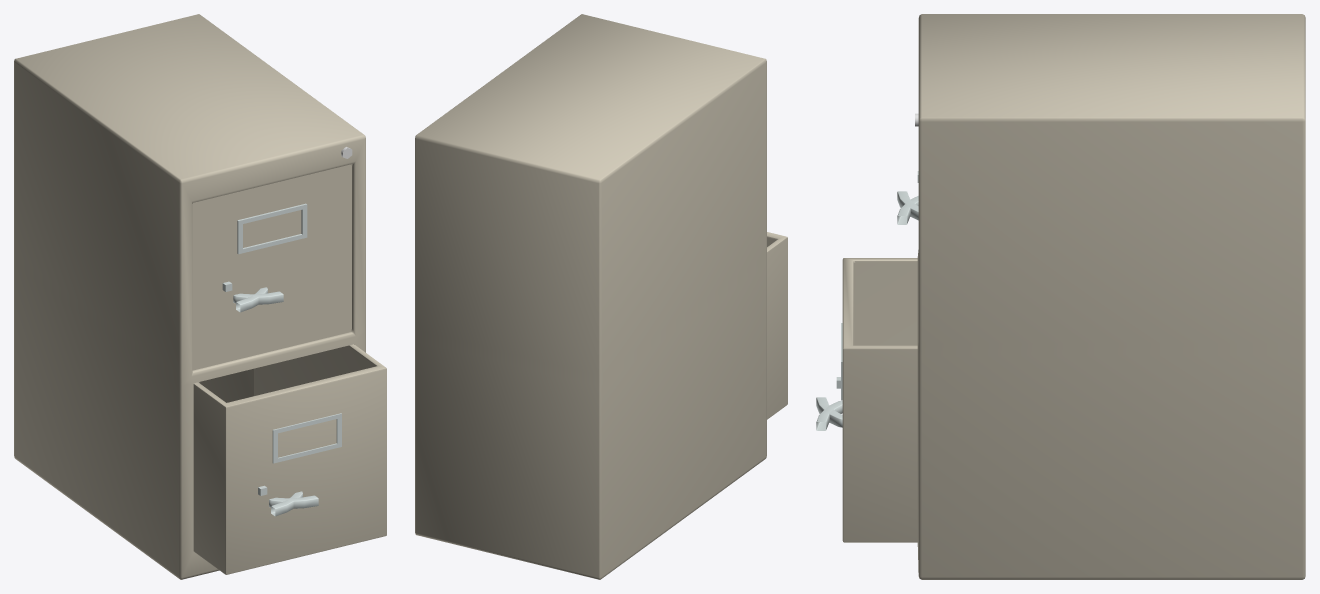
Rendered from SM_cabinet.fbx.
The picture shows the model from 3 angles, left to right: view 1: azimuth 30°, elevation 25°; view 2: azimuth 150°, elevation 25°; view 3: azimuth 270°, elevation 25°; orthographic projection. The views are drawn at different scales.
Visible parts, largest first — view 1: cabinet, cabinet_tiroir, Plane, Cube.005, Cube.004, Cube, Cube.002; view 2: cabinet, cabinet_tiroir; view 3: cabinet, cabinet_tiroir, Cube.002.
Boxes of the visible parts, left/top/right/bottom form: cabinet: left=14, top=14, right=365, bottom=579; cabinet_tiroir: left=193, top=344, right=386, bottom=574; Plane: left=192, top=164, right=351, bottom=370; Cube.005: left=237, top=203, right=307, bottom=254; Cube.004: left=272, top=413, right=341, bottom=463; Cube: left=233, top=287, right=283, bottom=312; Cube.002: left=269, top=491, right=318, bottom=516; cabinet: left=415, top=14, right=766, bottom=579; cabinet_tiroir: left=767, top=232, right=787, bottom=419; cabinet: left=917, top=14, right=1305, bottom=579; cabinet_tiroir: left=842, top=258, right=917, bottom=542; Cube.002: left=816, top=397, right=842, bottom=430.
Size of the model in its own units: 71.32 by 147 by 141.
